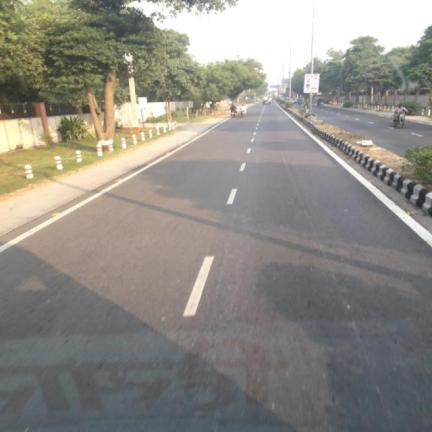Road: (0, 104, 431, 431), (314, 106, 431, 155)
